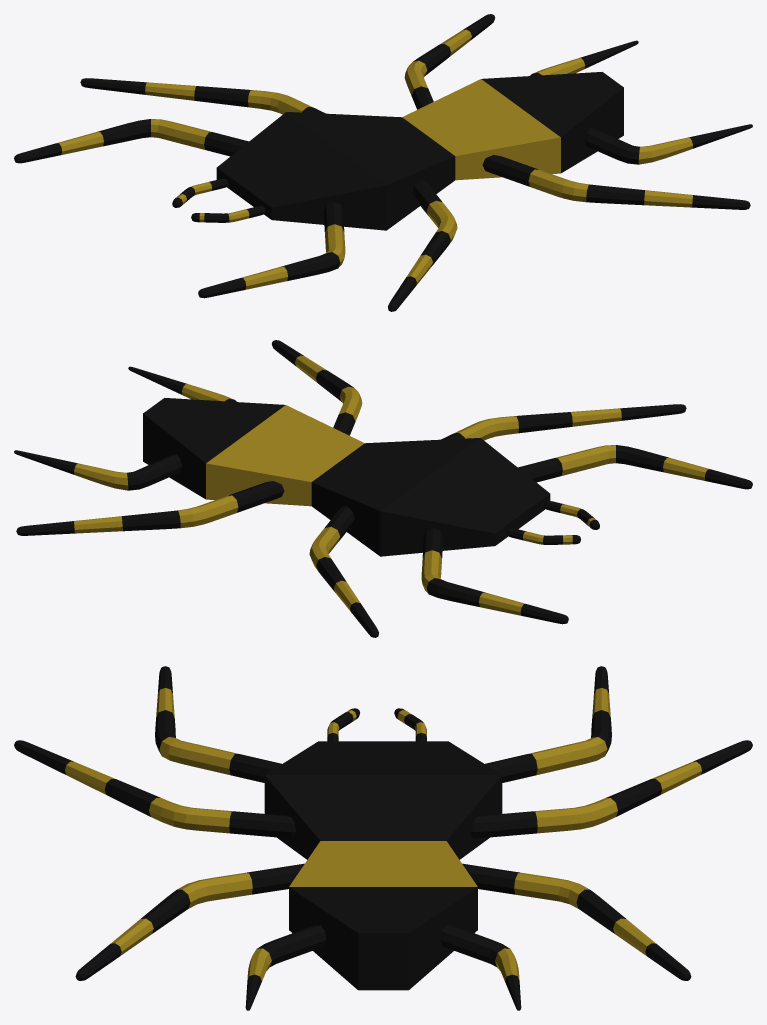
The model's file is SpidersF(T).fbx.
The picture shows the model from 3 angles, top to bottom: view 1: azimuth 30°, elevation 25°; view 2: azimuth 150°, elevation 25°; view 3: azimuth 270°, elevation 25°; orthographic projection. The views are drawn at different scales.
Visible parts, largest first — view 1: Spider; view 2: Spider; view 3: Spider.
Boxes of the visible parts, bbox=[...] form: Spider: bbox=[14, 14, 752, 311]; Spider: bbox=[14, 340, 752, 637]; Spider: bbox=[14, 666, 752, 1010].
Size of the model in its own units: 639 by 50 by 586.
